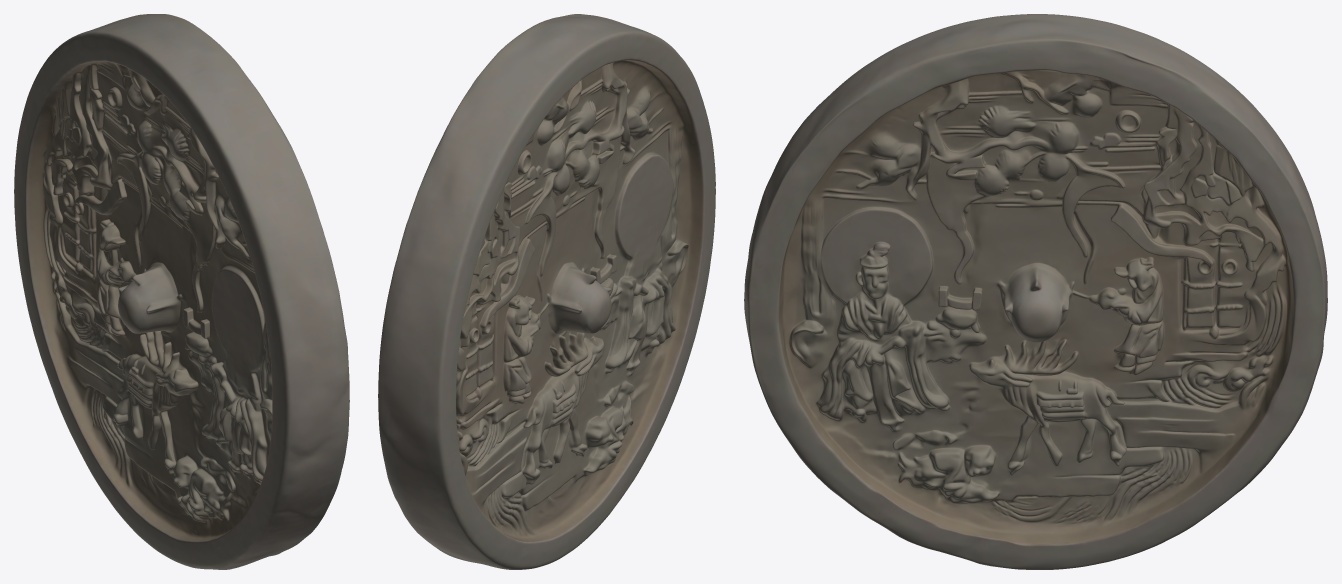
Rendered from bm-mirror-1990-0531-8.glb.
3 renders of one model, left to right at view 1: azimuth 30°, elevation 25°; view 2: azimuth 150°, elevation 25°; view 3: azimuth 270°, elevation 25°, orthographic. The views are drawn at different scales.
Size of the model in its own units: 0.2344 by 0.9995 by 1.
1 material, 1 textured.
